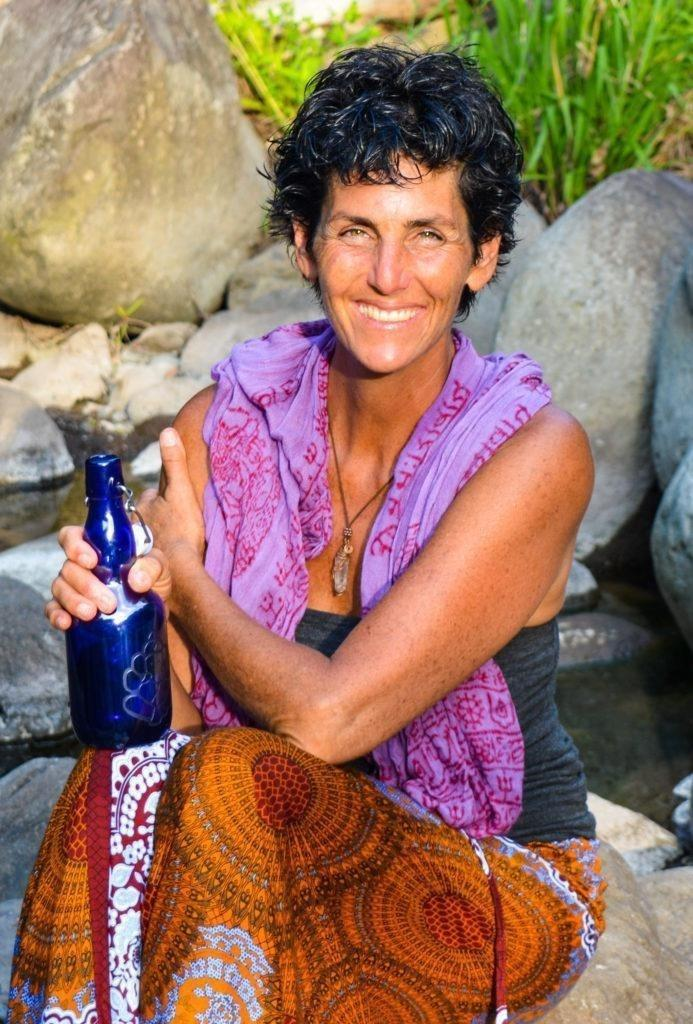bottle-glass: (60, 452, 172, 752)
